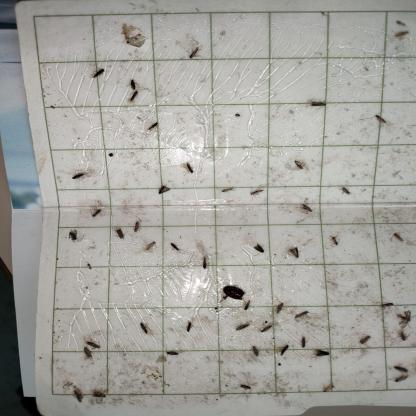prays_oleae: (121, 20, 149, 52), (90, 64, 112, 89), (141, 116, 166, 137), (372, 104, 390, 133), (84, 200, 103, 227), (299, 191, 315, 222), (390, 22, 412, 44), (314, 344, 334, 368), (66, 164, 90, 183), (308, 88, 327, 112), (136, 314, 152, 341), (287, 237, 303, 264), (186, 41, 202, 67), (232, 318, 252, 338), (375, 296, 395, 316), (84, 332, 102, 354), (394, 310, 416, 328), (182, 157, 198, 181), (248, 181, 264, 205), (292, 152, 308, 176), (236, 376, 254, 396), (157, 178, 173, 199), (394, 369, 408, 393), (338, 184, 352, 208), (391, 224, 404, 249), (73, 382, 85, 409), (93, 386, 111, 404), (132, 215, 144, 241), (128, 86, 142, 108), (163, 345, 181, 362), (356, 332, 371, 352), (167, 236, 180, 259), (272, 298, 289, 315), (258, 319, 275, 336), (65, 226, 79, 246), (113, 224, 126, 245), (300, 329, 310, 356), (279, 338, 291, 360), (185, 311, 195, 337), (250, 240, 266, 256), (219, 180, 235, 196), (143, 240, 158, 257), (199, 253, 211, 274), (80, 343, 92, 363), (248, 344, 262, 360), (394, 361, 410, 375), (238, 299, 254, 313), (393, 332, 412, 343), (330, 231, 340, 250), (126, 77, 138, 91)
